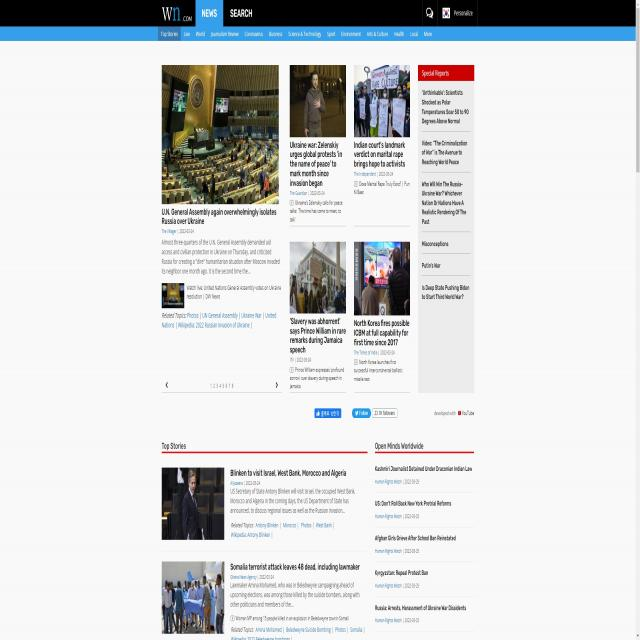menu-bar: (419, 2, 479, 26)
tab-bar: (154, 24, 438, 41)
